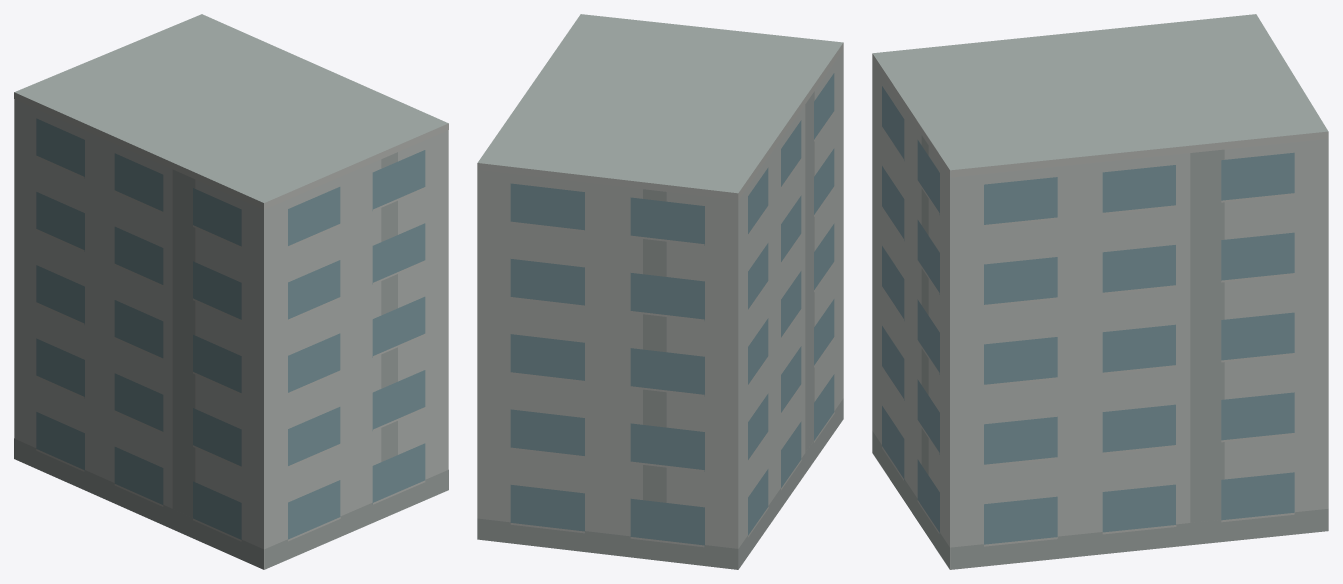
File: survey-upis-32890614.glb
3 renders of one model, left to right at view 1: azimuth 30°, elevation 25°; view 2: azimuth 150°, elevation 25°; view 3: azimuth 270°, elevation 25°, orthographic. The views are drawn at different scales.
Visible parts, largest first — view 1: survey-upis-32890614.tmp; view 2: survey-upis-32890614.tmp; view 3: survey-upis-32890614.tmp.
Boxes of the visible parts, bbox=[...] form: survey-upis-32890614.tmp: bbox=[14, 14, 448, 569]; survey-upis-32890614.tmp: bbox=[477, 14, 843, 569]; survey-upis-32890614.tmp: bbox=[872, 14, 1328, 569].
Bounding box in the file's own units: 11.08 × 13.2 × 13.67.
